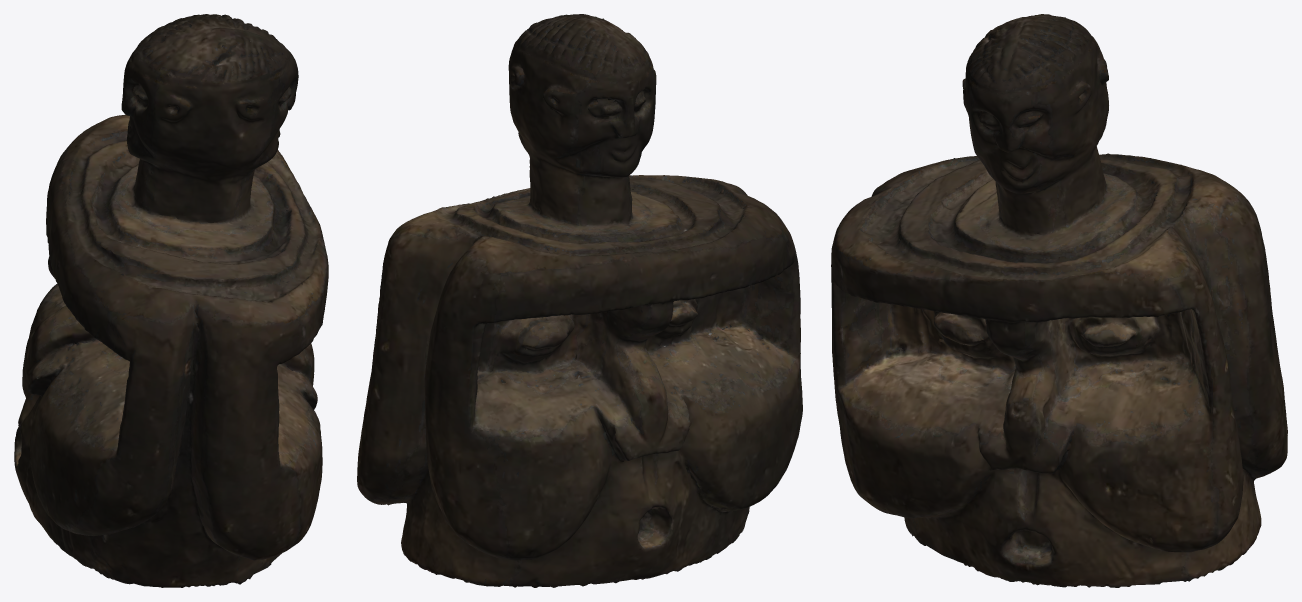
Rendered from preview.glb.
3 views of the same model, side by side, from view 1: azimuth 30°, elevation 25°; view 2: azimuth 150°, elevation 25°; view 3: azimuth 270°, elevation 25° (orthographic). The views are drawn at different scales.
Visible parts, largest first — view 1: Object_2; view 2: Object_2; view 3: Object_2.
Part boxes in pixels (x1,y1,x2,y2): Object_2: (14,14,328,587); Object_2: (357,14,802,587); Object_2: (831,14,1287,587).
Size of the model in its own units: 346 by 543 by 427.
1 material, 1 textured.
